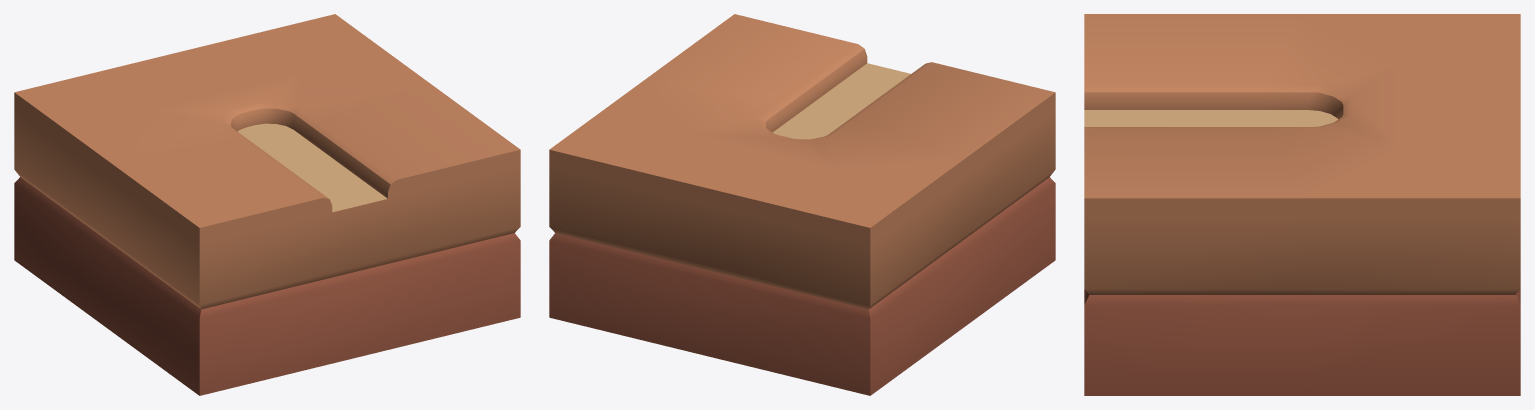
File: square_rock_roadA_detail.glb
3 views of the same model, side by side, from view 1: azimuth 30°, elevation 25°; view 2: azimuth 150°, elevation 25°; view 3: azimuth 270°, elevation 25° (orthographic). The views are drawn at different scales.
Parts seen in each view (by area): view 1: square_rock_roadA_detail; view 2: square_rock_roadA_detail; view 3: square_rock_roadA_detail.
Boxes of the visible parts, left/top/right/bottom form: square_rock_roadA_detail: left=14, top=14, right=520, bottom=395; square_rock_roadA_detail: left=549, top=14, right=1055, bottom=395; square_rock_roadA_detail: left=1084, top=14, right=1520, bottom=395.
Size of the model in its own units: 3.82 by 1.91 by 3.82.
